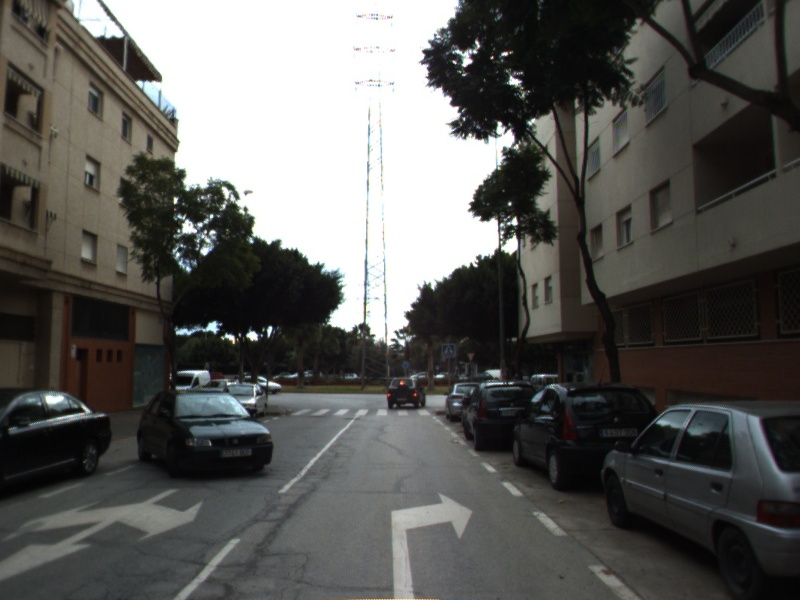RIGHT: (388, 488, 477, 600)
